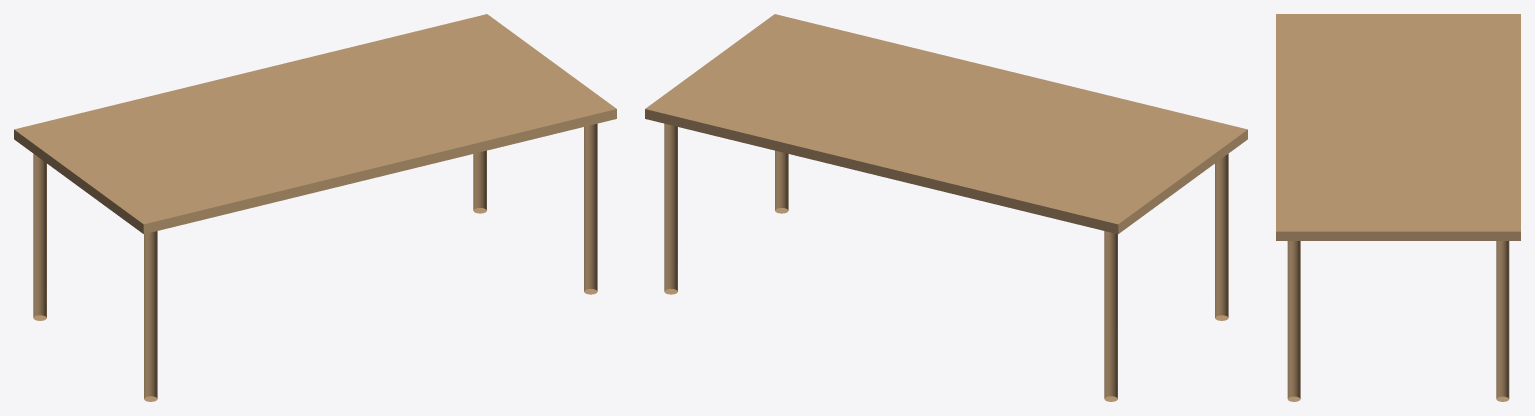
File: dining_table_03.glb
3 views of the same model, side by side, from view 1: azimuth 30°, elevation 25°; view 2: azimuth 150°, elevation 25°; view 3: azimuth 270°, elevation 25° (orthographic). The views are drawn at different scales.
Size of the model in its own units: 2 by 0.75 by 0.95.
